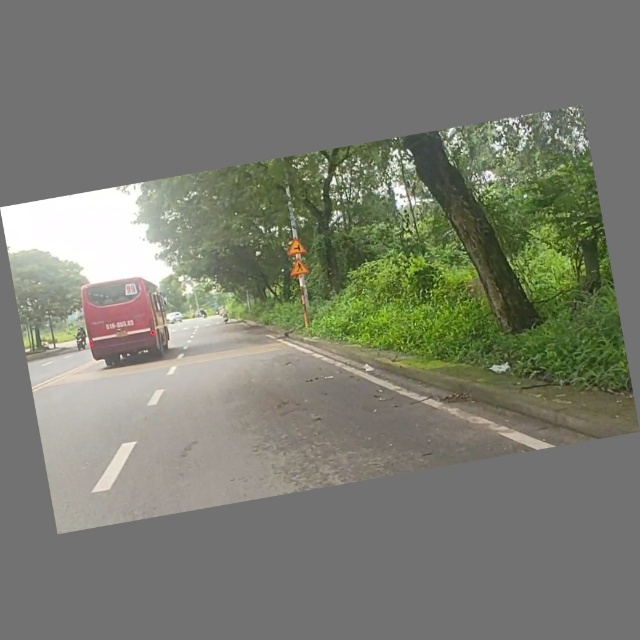W.205c: (284, 233, 314, 258)
W.224: (287, 257, 315, 279)
